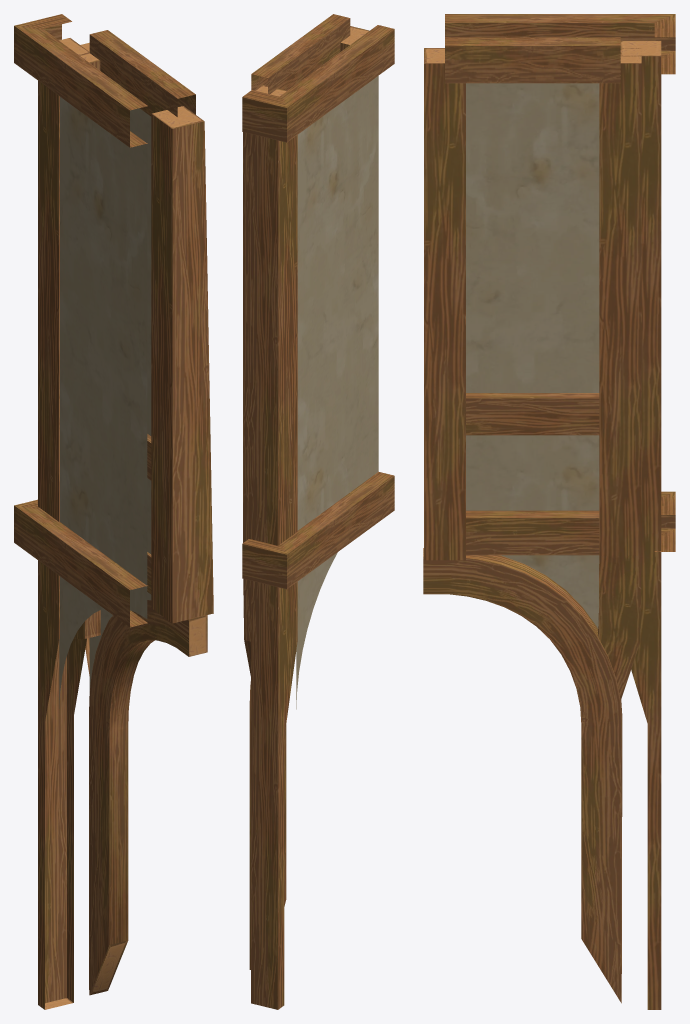
The model's file is Overhang_Side_Plaster_Short_R.glb.
The picture shows the model from 3 angles, left to right: view 1: azimuth 30°, elevation 25°; view 2: azimuth 150°, elevation 25°; view 3: azimuth 270°, elevation 25°; orthographic projection. The views are drawn at different scales.
Parts seen in each view (by area): view 1: Overhang_Side_Plaster_Short_R; view 2: Overhang_Side_Plaster_Short_R; view 3: Overhang_Side_Plaster_Short_R.
Boxes of the visible parts, <box> form: Overhang_Side_Plaster_Short_R: <box>14,14,213,1009</box>; Overhang_Side_Plaster_Short_R: <box>242,14,394,1009</box>; Overhang_Side_Plaster_Short_R: <box>423,14,675,1009</box>.
Bounding box in the file's own units: 0.4794 × 6.12 × 1.44.
Materials: 2 (2 with a texture image).
